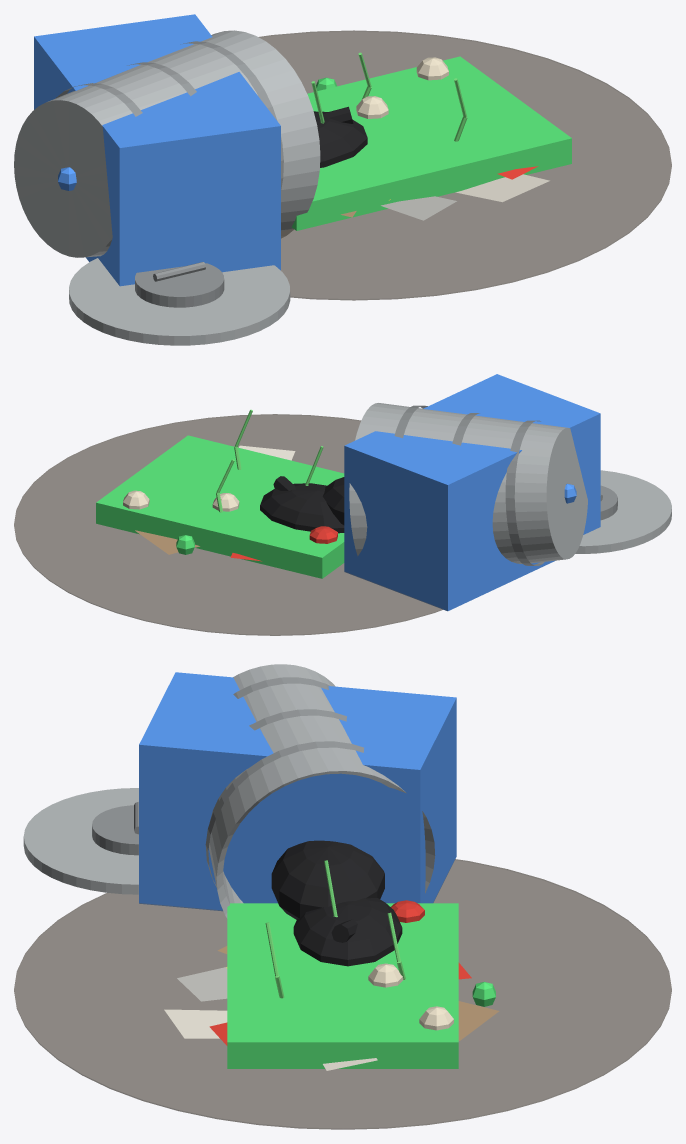
File: spilledTrash.fbx
3 views of the same model, one above another, from view 1: azimuth 30°, elevation 25°; view 2: azimuth 150°, elevation 25°; view 3: azimuth 270°, elevation 25° (orthographic). The views are drawn at different scales.
Visible parts, largest first — view 1: tipped_over_trash_can_spill_corrected_open_end; view 2: tipped_over_trash_can_spill_corrected_open_end; view 3: tipped_over_trash_can_spill_corrected_open_end.
Part boxes in pixels (bbox=[...]): tipped_over_trash_can_spill_corrected_open_end: bbox=[14, 14, 671, 345]; tipped_over_trash_can_spill_corrected_open_end: bbox=[14, 374, 671, 635]; tipped_over_trash_can_spill_corrected_open_end: bbox=[14, 664, 671, 1129].
Size of the model in its own units: 316 by 93.97 by 270.
